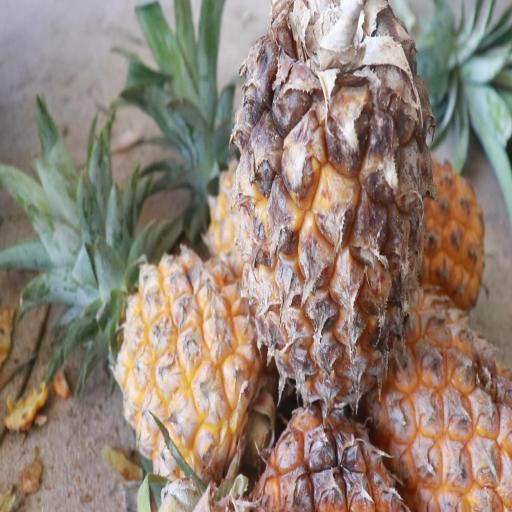Pineapple - v8 v1: (230, 9, 432, 402), (114, 214, 283, 492), (373, 270, 512, 507)
